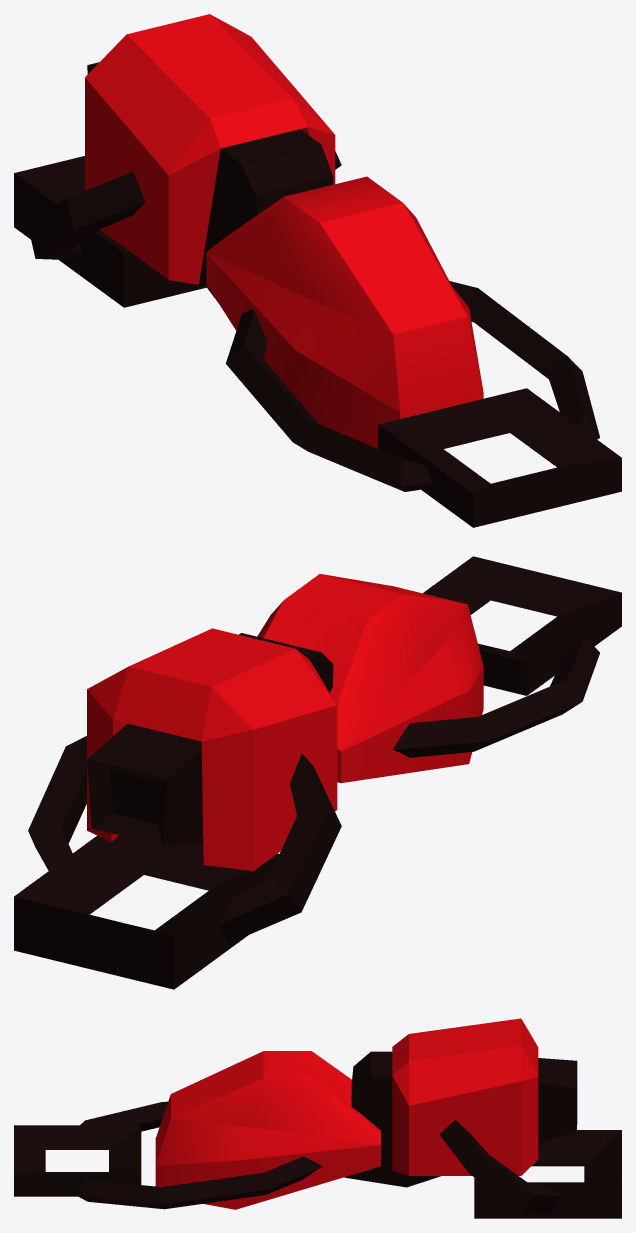
File: bike.fbx
3 renders of one model, top to bottom at view 1: azimuth 30°, elevation 25°; view 2: azimuth 150°, elevation 25°; view 3: azimuth 270°, elevation 25°, orthographic. The views are drawn at different scales.
Parts seen in each view (by area): view 1: Bike; view 2: Bike; view 3: Bike.
Part boxes in pixels (left/top/right/bottom): Bike: left=14, top=14, right=621, bottom=527; Bike: left=14, top=556, right=621, bottom=989; Bike: left=14, top=1018, right=621, bottom=1218.
Size of the model in its own units: 348 by 274 by 944.
